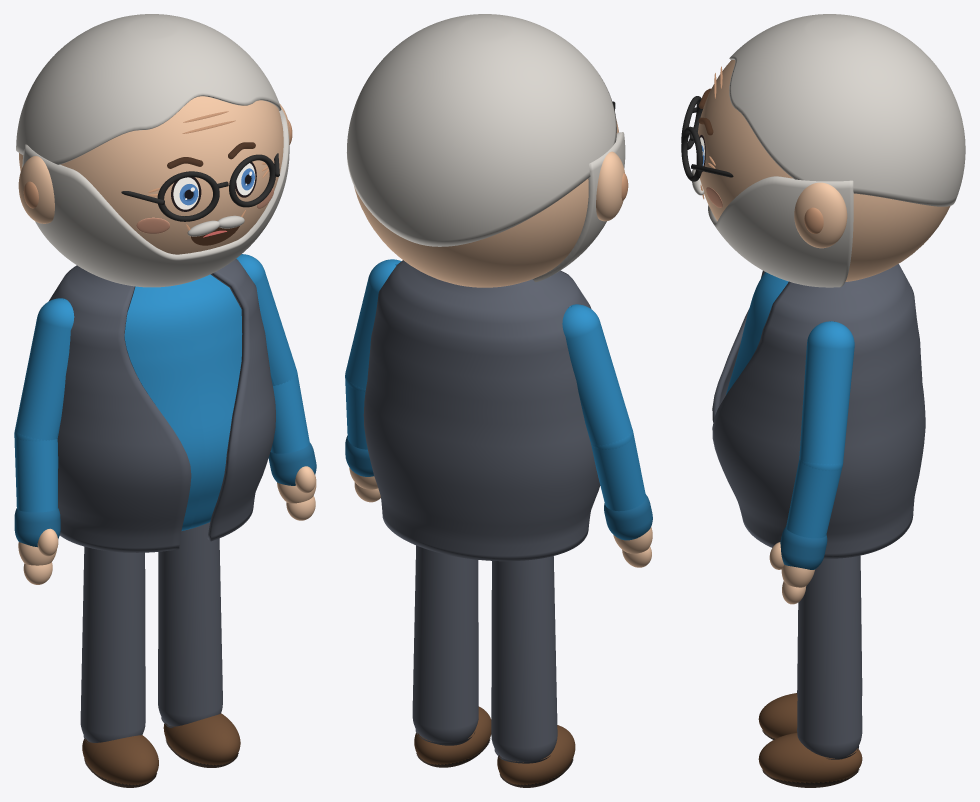
Rendered from papa_oud.glb.
The picture shows the model from 3 angles, left to right: view 1: azimuth 30°, elevation 25°; view 2: azimuth 150°, elevation 25°; view 3: azimuth 270°, elevation 25°; orthographic projection.
Visible parts, largest first — view 1: papa_oud_jas, papa_oud_haar, papa_oud_romp, papa_oud_hoofd, papa_oud_been_R, papa_oud_baard, papa_oud_been_L, papa_oud_bovenarm_R, papa_oud_onderarm_R, papa_oud_schoen_R, papa_oud_schoen_L, papa_oud_bovenarm_L (+7 smaller); view 2: papa_oud_jas, papa_oud_haar, papa_oud_been_R, papa_oud_been_L, papa_oud_hoofd, papa_oud_bovenarm_R, papa_oud_onderarm_R, papa_oud_bovenarm_L, papa_oud_schoen_R, papa_oud_baard, papa_oud_schoen_L, papa_oud_oor_R (+4 smaller); view 3: papa_oud_jas, papa_oud_haar, papa_oud_been_L, papa_oud_hoofd, papa_oud_baard, papa_oud_bovenarm_L, papa_oud_schoen_L, papa_oud_onderarm_L, papa_oud_oor_L, papa_oud_romp, papa_oud_manchet_L, papa_oud_schoen_R (+2 smaller).
Part boxes in pixels (x1,y1,x2,y2): papa_oud_jas: (49,258,275,552); papa_oud_haar: (16,14,281,164); papa_oud_romp: (124,274,242,530); papa_oud_hoofd: (19,96,283,254); papa_oud_been_R: (80,546,145,742); papa_oud_baard: (22,109,289,287); papa_oud_been_L: (158,522,222,726); papa_oud_bovenarm_R: (15,298,74,440); papa_oud_onderarm_R: (14,435,58,512); papa_oud_schoen_R: (82,735,158,785); papa_oud_schoen_L: (163,713,240,765); papa_oud_bovenarm_L: (236,254,296,385); papa_oud_jas: (363,260,600,561); papa_oud_haar: (346,14,616,246); papa_oud_been_R: (491,556,557,761); papa_oud_been_L: (412,545,478,742); papa_oud_hoofd: (354,120,618,287); papa_oud_bovenarm_R: (562,304,632,449); papa_oud_onderarm_R: (591,434,645,511); papa_oud_bovenarm_L: (345,259,401,390); papa_oud_schoen_R: (497,725,575,785); papa_oud_baard: (533,132,625,282); papa_oud_schoen_L: (414,706,491,764); papa_oud_oor_R: (596,151,624,221); papa_oud_jas: (712,264,925,558); papa_oud_haar: (729,14,965,206); papa_oud_been_L: (797,555,862,758); papa_oud_hoofd: (698,60,950,281); papa_oud_baard: (708,176,853,287); papa_oud_bovenarm_L: (799,321,854,470); papa_oud_schoen_L: (758,733,862,783); papa_oud_onderarm_L: (786,459,842,538); papa_oud_oor_L: (794,182,847,248); papa_oud_romp: (726,272,788,394); papa_oud_manchet_L: (780,526,827,569); papa_oud_schoen_R: (758,693,797,738).
Size of the model in its own units: 0.7698 by 1.83 by 0.6401.
